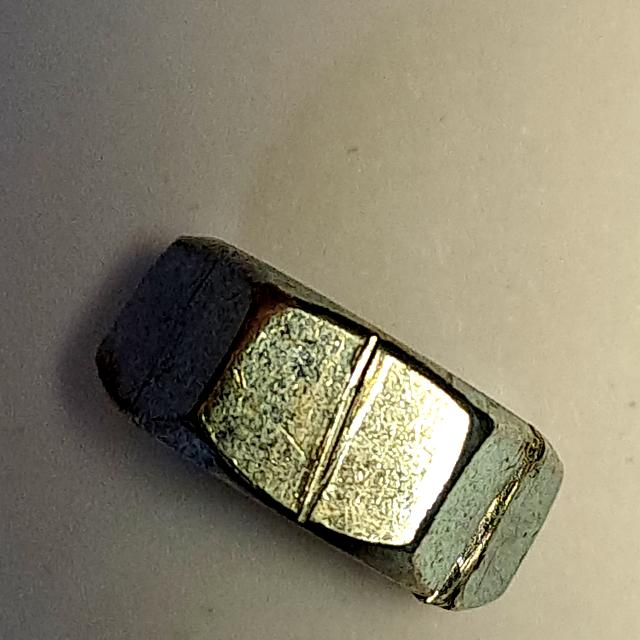Side_Scratches: (83, 222, 583, 626)
